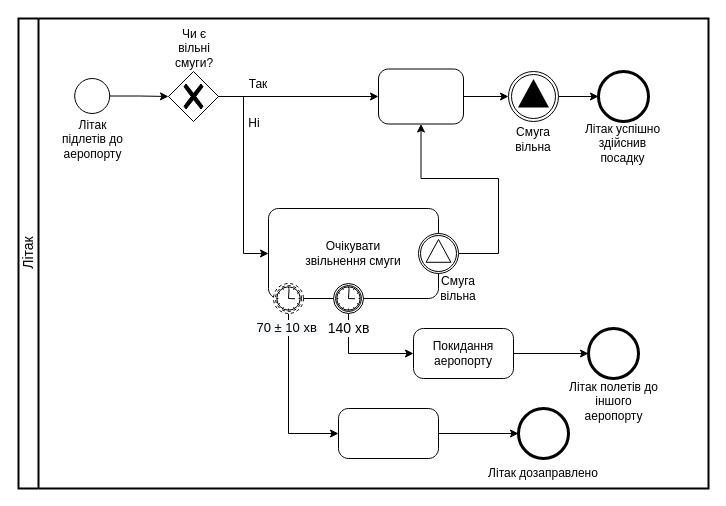
Some shapes in this 726 by 506 pixel diagram are drawn without their labels. Here are the shapes that lost their labels. From the top down, the centre of each, then its label:
At [421,96]: "Здійснити посадку".
At [388,433]: "Дозаправка".
